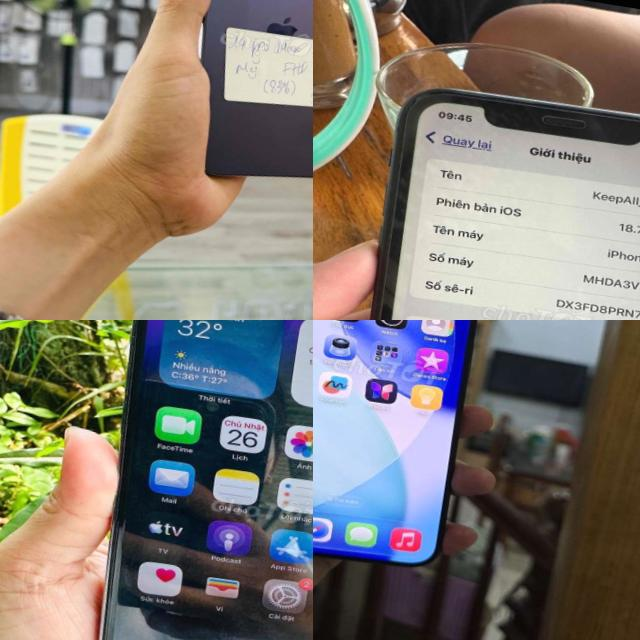gen_11: (326, 72, 640, 320)
gen_12_13: (313, 320, 503, 588)
gen_14: (40, 320, 313, 640), (158, 0, 313, 201)
